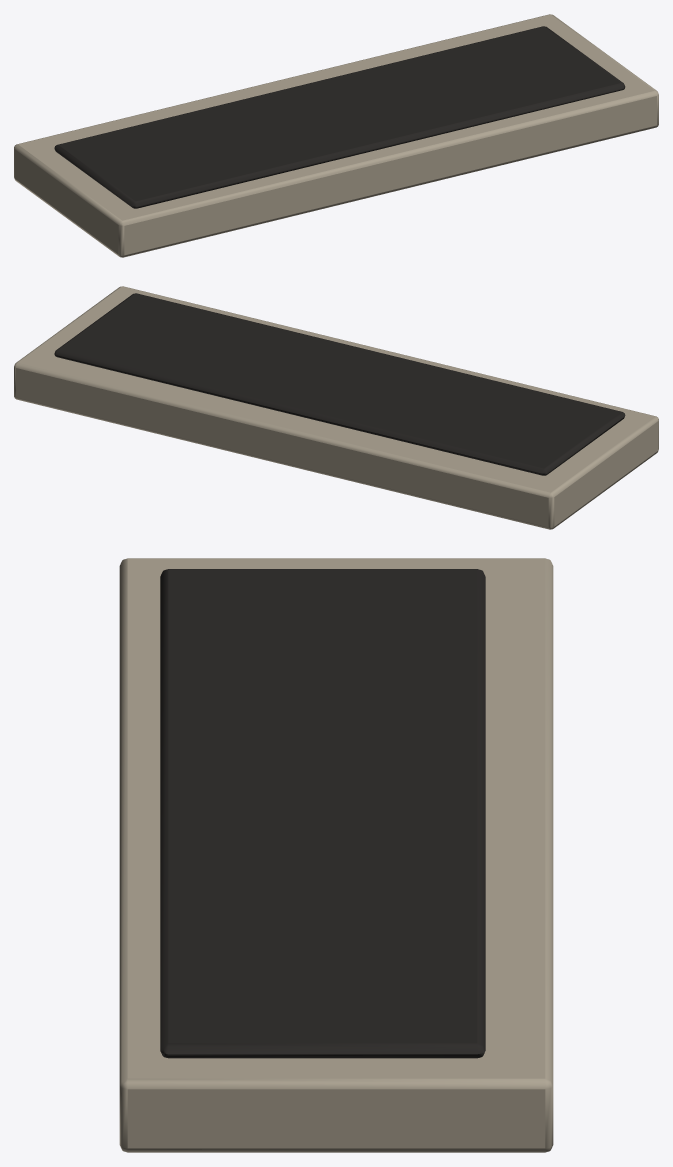
File: SM_F_Keyboard.fbx
The picture shows the model from 3 angles, top to bottom: view 1: azimuth 30°, elevation 25°; view 2: azimuth 150°, elevation 25°; view 3: azimuth 270°, elevation 25°; orthographic projection. The views are drawn at different scales.
Parts seen in each view (by area): view 1: SM_F_Keyboard__Body; view 2: SM_F_Keyboard__Body; view 3: SM_F_Keyboard__Body.
Part boxes in pixels (left/top/right/bottom): SM_F_Keyboard__Body: left=14, top=14, right=658, bottom=257; SM_F_Keyboard__Body: left=14, top=286, right=658, bottom=529; SM_F_Keyboard__Body: left=119, top=558, right=553, bottom=1152.
Size of the model in its own units: 0.46 by 0.035 by 0.16.
